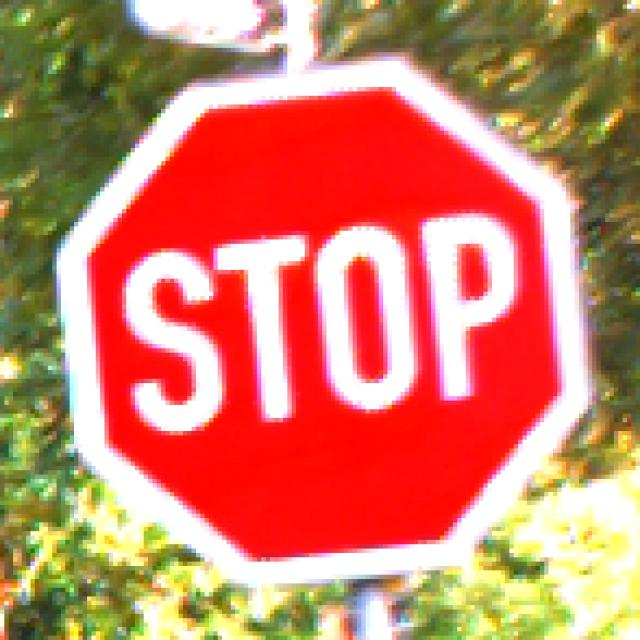STOP: (58, 58, 589, 589)
